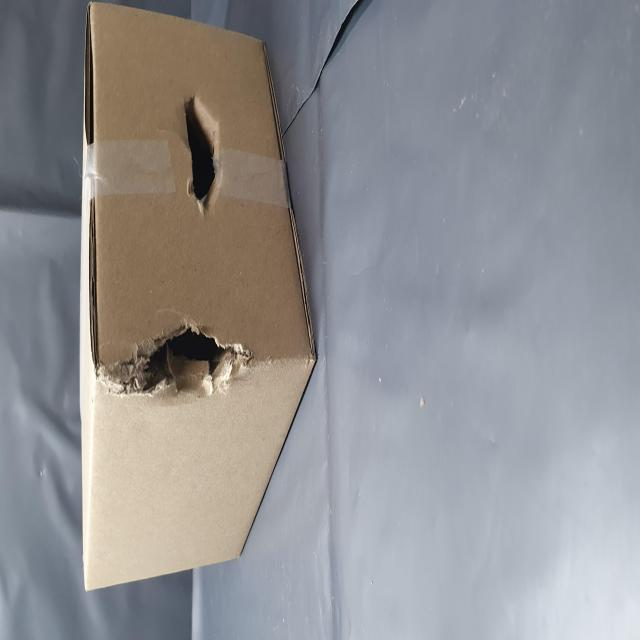damaged: (130, 200, 180, 437), (240, 318, 314, 391)
